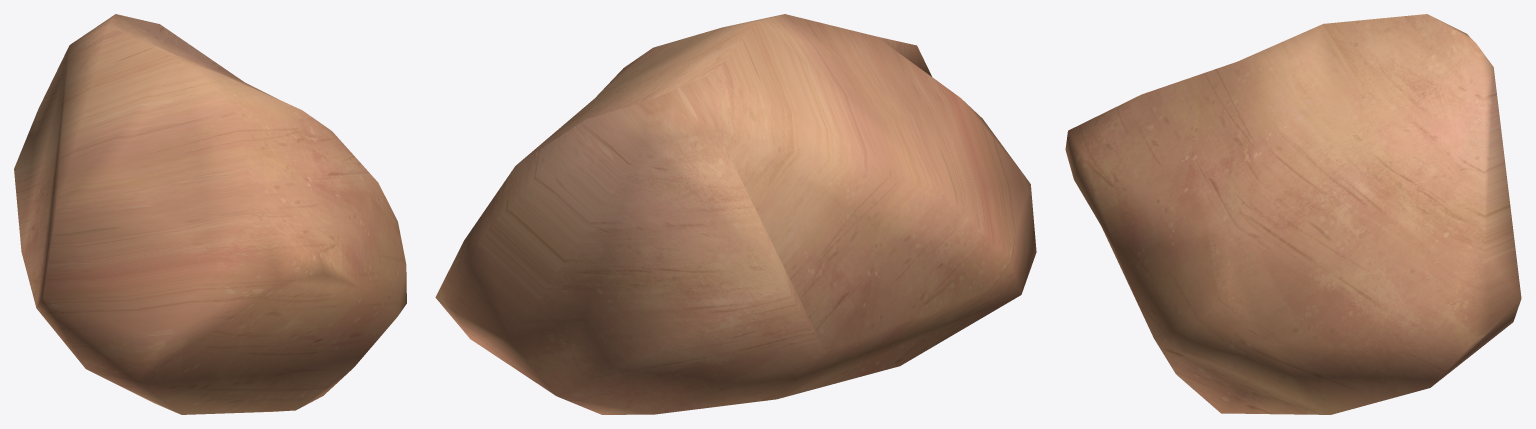
File: rock_1_013.fbx
3 views of the same model, side by side, from view 1: azimuth 30°, elevation 25°; view 2: azimuth 150°, elevation 25°; view 3: azimuth 270°, elevation 25° (orthographic). The views are drawn at different scales.
Parts seen in each view (by area): view 1: rock 1.013; view 2: rock 1.013; view 3: rock 1.013.
Part boxes in pixels (x1,y1,x2,y2): rock 1.013: [14, 14, 406, 414]; rock 1.013: [435, 14, 1036, 414]; rock 1.013: [1065, 14, 1521, 414].
Size of the model in its own units: 429 by 375 by 455.
